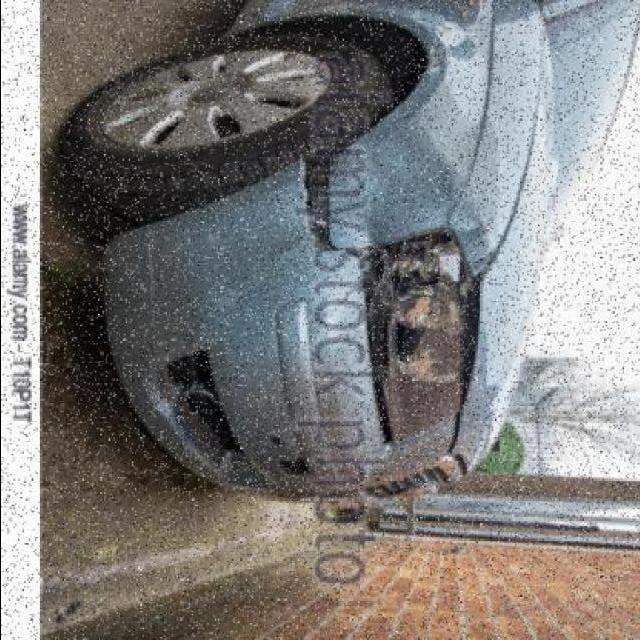Headlight-Damage: (362, 213, 486, 463)
front-bumper-dent: (97, 161, 375, 513)
